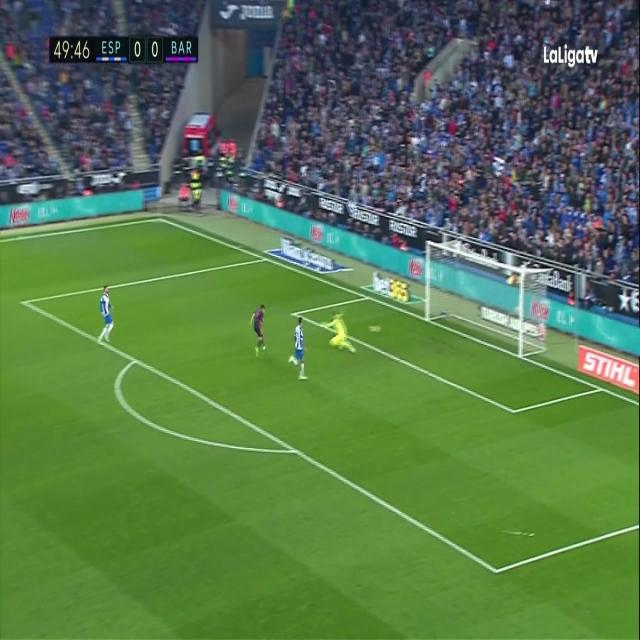Ball: (365, 317, 383, 338)
Goalkeeper: (319, 304, 357, 360)
Player: (287, 314, 309, 382), (94, 283, 115, 349), (249, 300, 268, 360)
